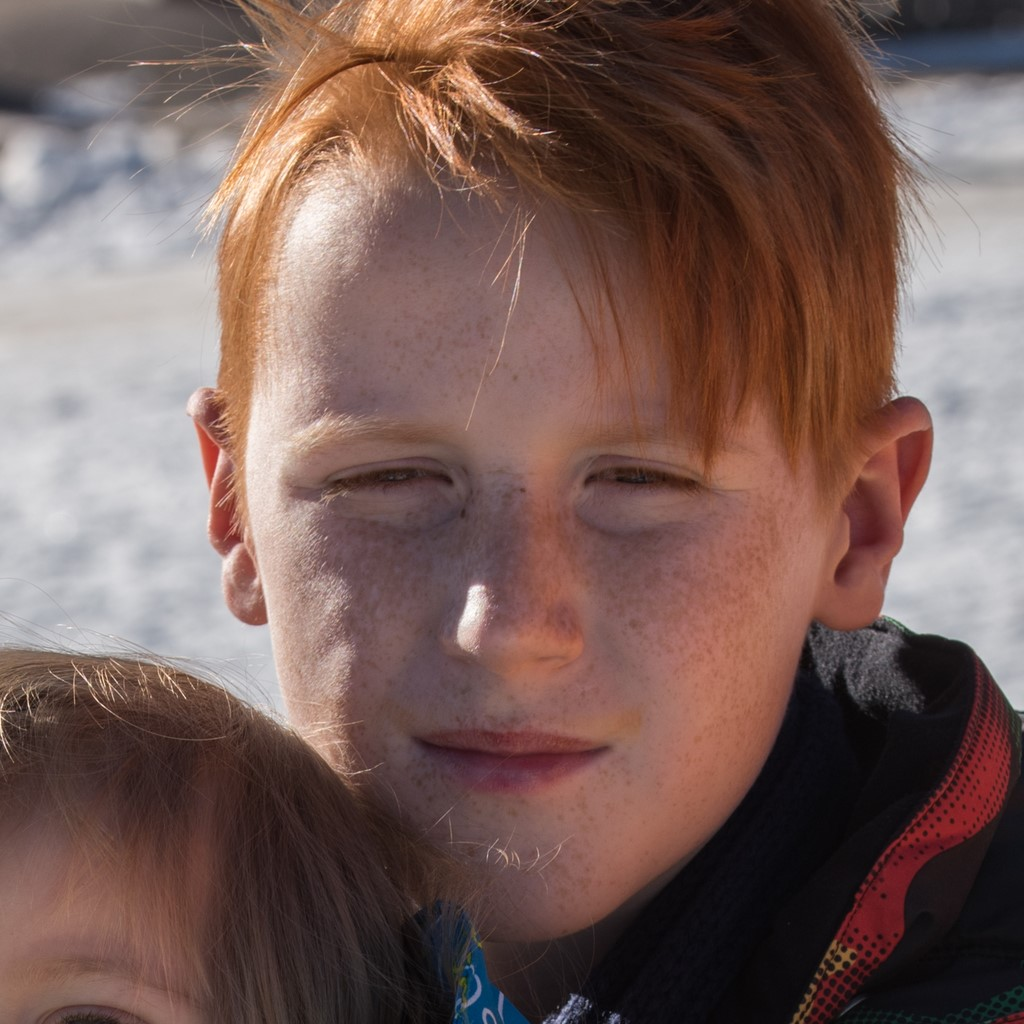sin_mascara: (262, 134, 837, 977)
